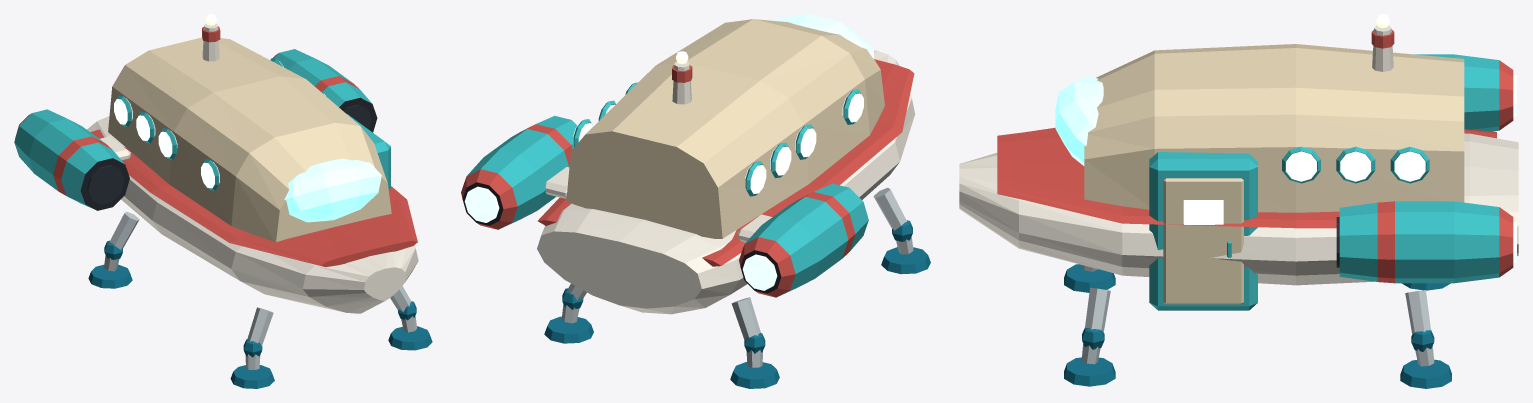
File: pel-p_gelandet.glb
The picture shows the model from 3 angles, left to right: view 1: azimuth 30°, elevation 25°; view 2: azimuth 150°, elevation 25°; view 3: azimuth 270°, elevation 25°; orthographic projection. The views are drawn at different scales.
Parts seen in each view (by area): view 1: kabine, unterrumpf, zierstreifen, triebwerk_r, cockpit, triebwerk_l, fenster, landebein_2, landebein_4, landebein_1, mast, türmodul; view 2: kabine, unterrumpf, triebwerk_r, triebwerk_l, zierstreifen, fenster, landebein_4, landebein_2, landebein_3, cockpit, pylone, mast; view 3: kabine, unterrumpf, triebwerk_l, tür, zierstreifen, türmodul, triebwerk_r, fenster, cockpit, landebein_3, landebein_1, landebein_2 (+1 smaller).
Boxes of the visible parts, x1,y1,x2,y2 form: kabine: (108,37,391,241); unterrumpf: (87,116,418,313); zierstreifen: (90,129,417,267); triebwerk_r: (14,109,129,210); cockpit: (284,158,381,222); triebwerk_l: (273,49,377,132); fenster: (114,58,325,190); landebein_2: (230,307,274,388); landebein_4: (88,211,139,288); landebein_1: (388,286,432,350); mast: (202,23,220,61); türmodul: (347,114,390,189); kabine: (566,19,884,238); unterrumpf: (537,50,915,314); triebwerk_r: (739,183,868,297); triebwerk_l: (461,116,577,229); zierstreifen: (538,59,914,266); fenster: (573,82,863,196); landebein_4: (730,297,779,388); landebein_2: (873,187,930,274); landebein_3: (544,283,593,343); cockpit: (773,14,873,58); pylone: (545,167,772,242); mast: (672,62,692,104); kabine: (1084,44,1464,212); unterrumpf: (959,133,1518,285); triebwerk_l: (1336,201,1516,283); tür: (1163,178,1243,304); zierstreifen: (997,128,1496,228); türmodul: (1149,152,1257,310); triebwerk_r: (1415,54,1516,131); fenster: (1282,146,1429,183); cockpit: (1055,76,1103,165); landebein_3: (1400,290,1451,388); landebein_1: (1064,287,1115,386); landebein_2: (1064,264,1115,292).
Bounding box in the file's own units: 0.099 × 0.0798 × 0.1288.
